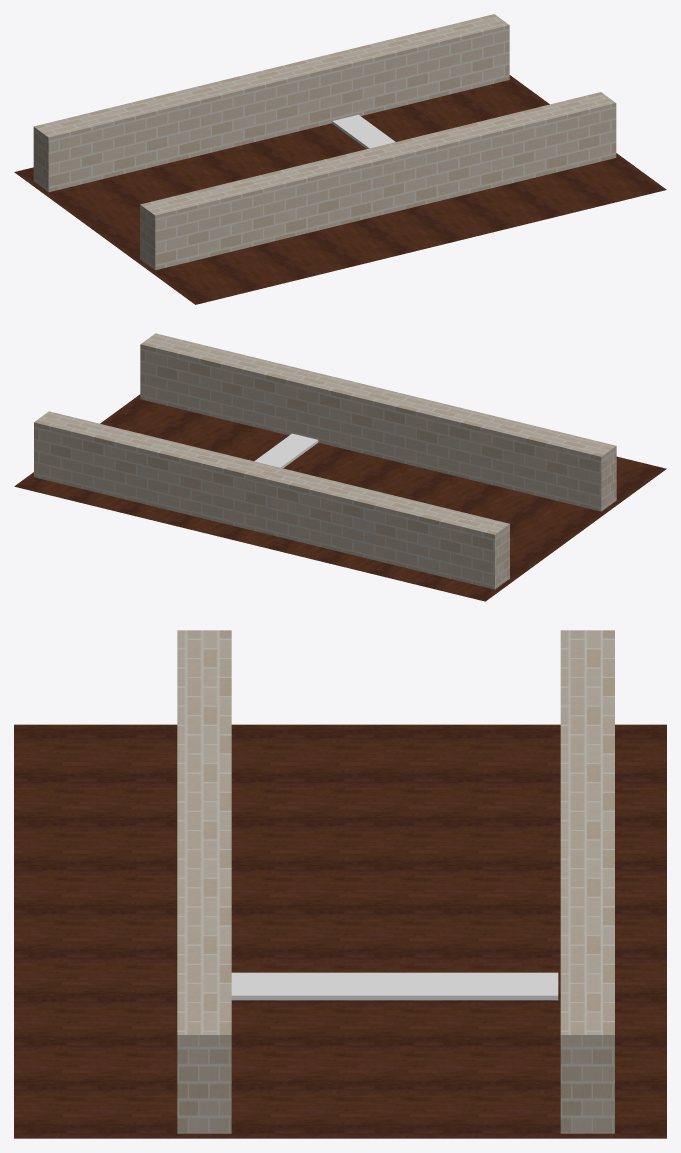
The picture shows the model from 3 angles, top to bottom: view 1: azimuth 30°, elevation 25°; view 2: azimuth 150°, elevation 25°; view 3: azimuth 270°, elevation 25°; orthographic projection. The views are drawn at different scales.
Parts seen in each view (by area): view 1: floor, wall_a, wall_b, hazard_strip; view 2: wall_b, wall_a, floor, hazard_strip; view 3: floor, wall_a, wall_b, hazard_strip.
Part boxes in pixels (<box>): floor: <box>14,75,666,304</box>; wall_a: <box>140,92,616,270</box>; wall_b: <box>33,14,509,192</box>; hazard_strip: <box>332,114,395,148</box>; wall_b: <box>34,411,509,589</box>; wall_a: <box>140,333,616,511</box>; floor: <box>14,394,666,601</box>; hazard_strip: <box>254,433,318,468</box>; floor: <box>14,724,666,1138</box>; wall_a: <box>177,630,231,1133</box>; wall_b: <box>560,630,614,1133</box>; hazard_strip: <box>231,972,558,1000</box>.
Size of what is drawn, in the model's own units: 18 by 2 by 12.
2 materials, 2 textured.
